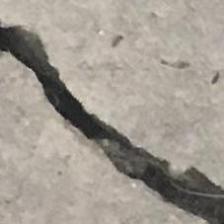Crack: (0, 18, 224, 224)
